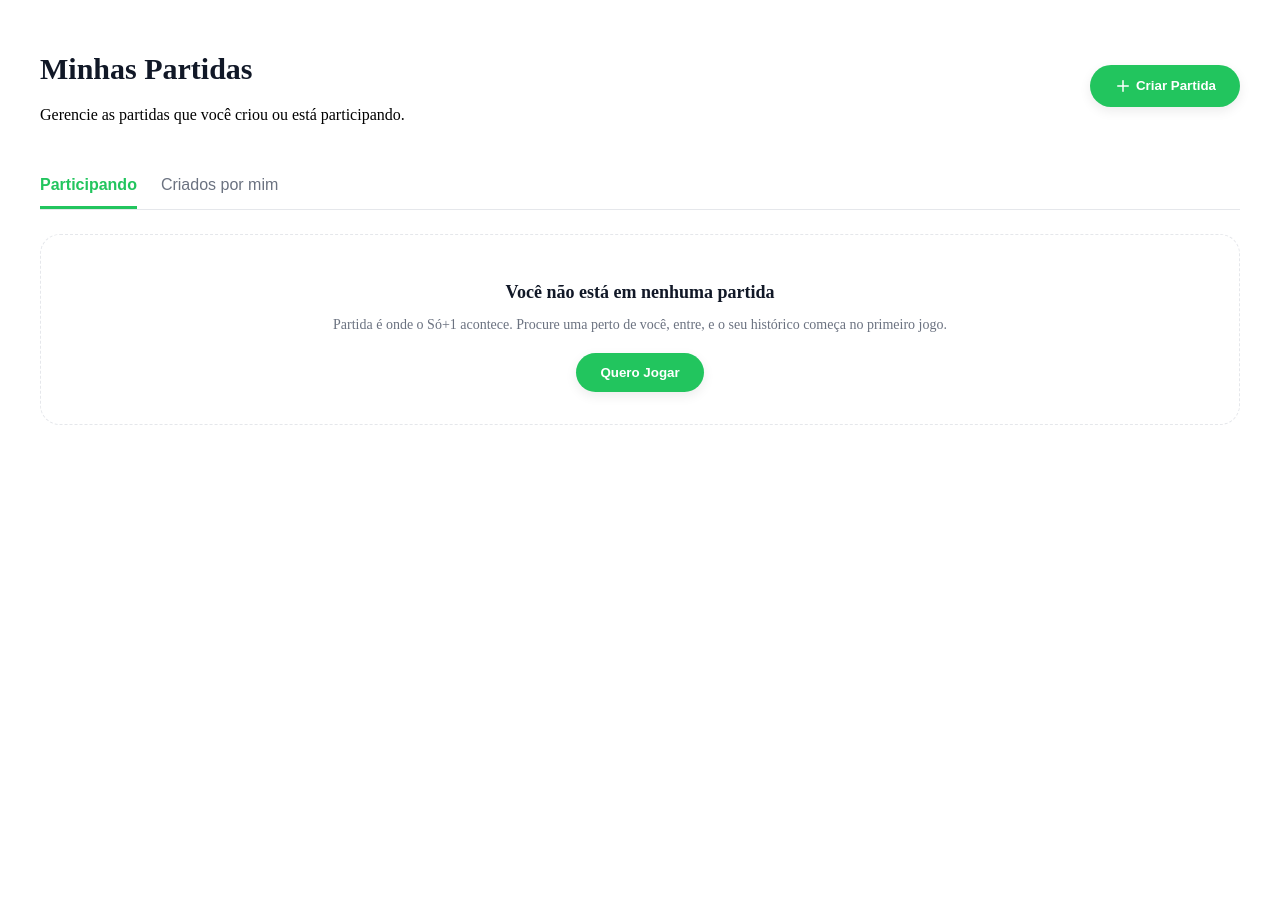
it: MinhasPartidas — sorteio de times › abre com 2 times, que é o mínimo que faz sentido
The image size is (1280, 900).
Click the button "Criados por mim" at (220, 187), box top-left (161, 164), bottom-right (278, 209)
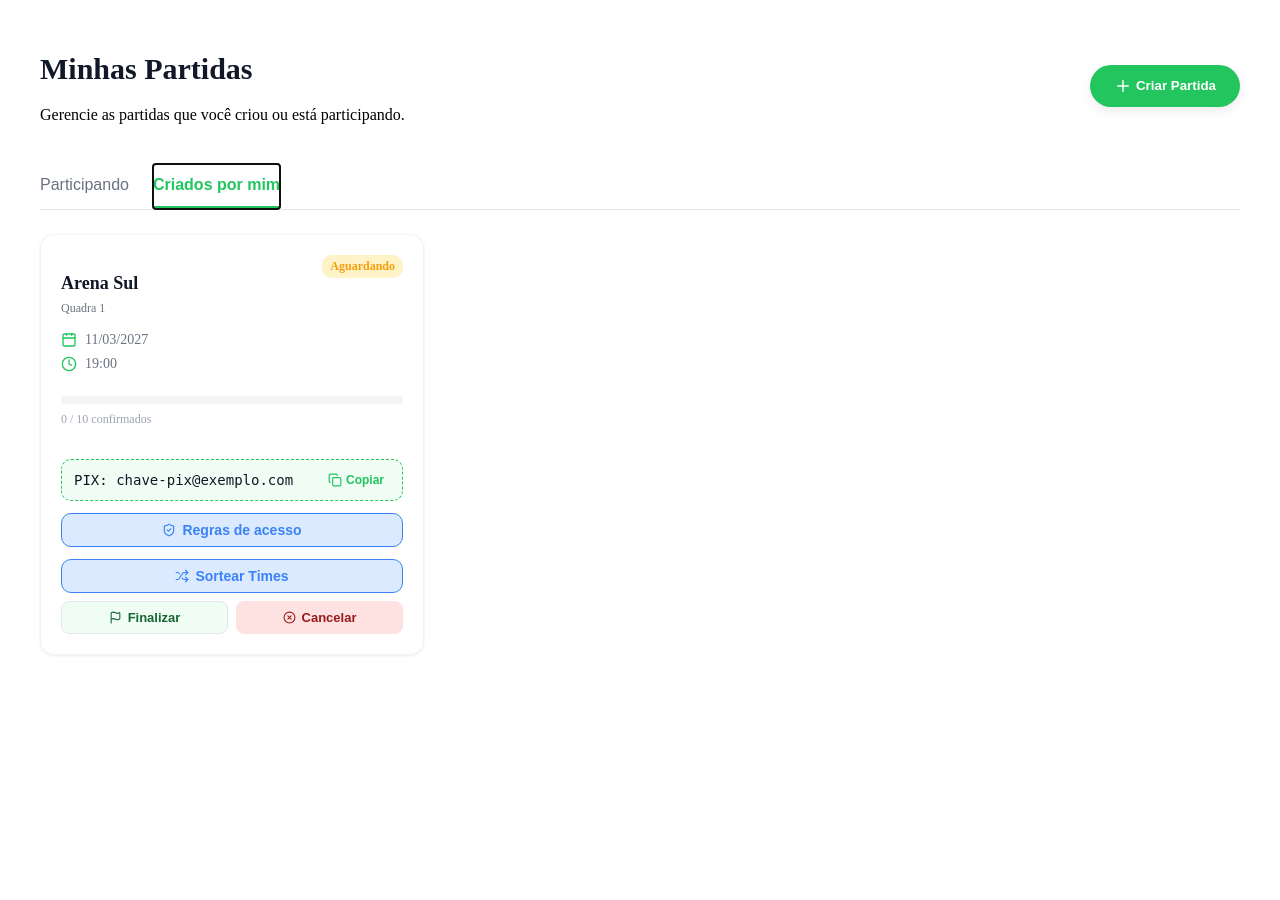
Click the button "Sortear Times" at (232, 576), box top-left (61, 559), bottom-right (403, 593)
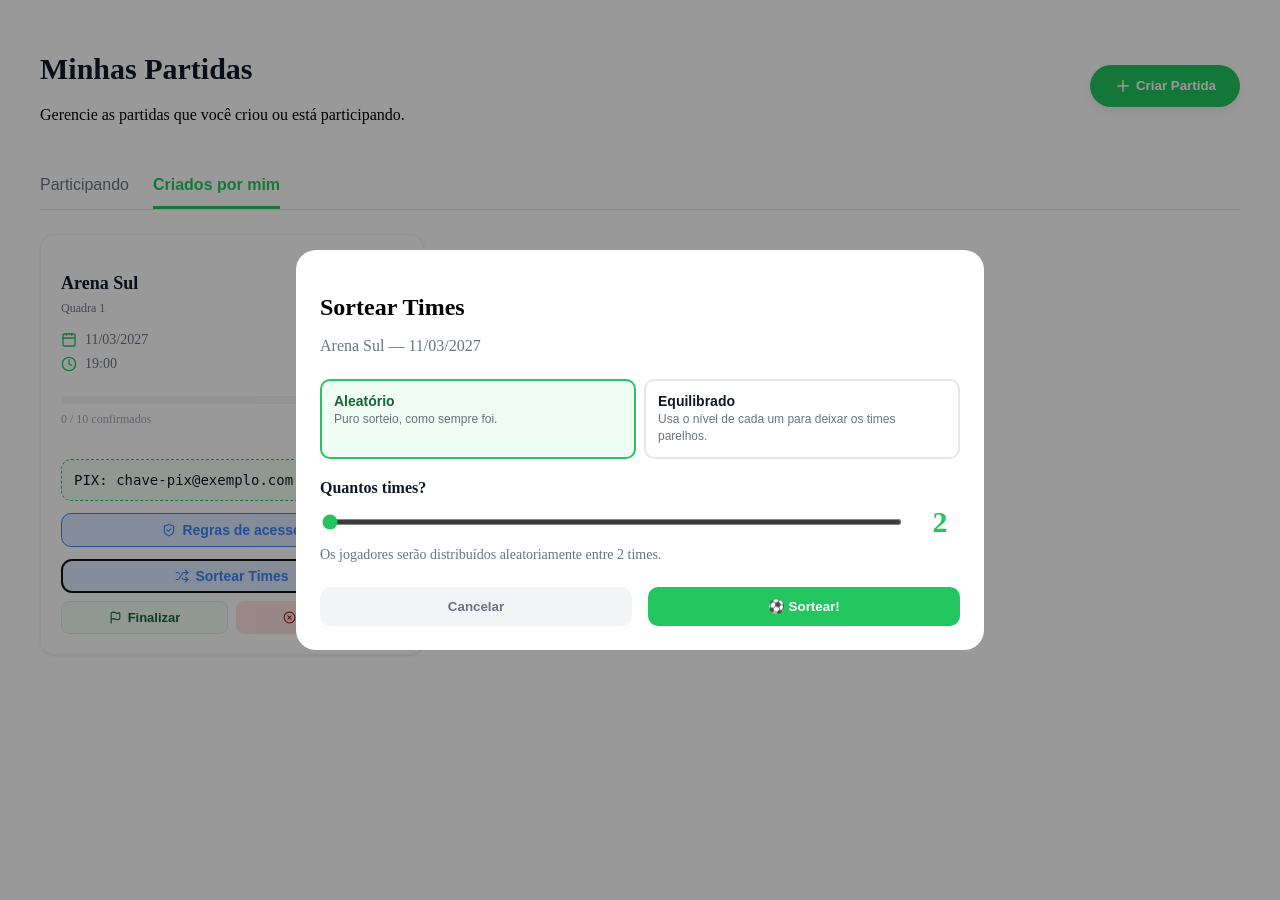
Check: the heading "Sortear Times" is shown, box top-left (320, 294), bottom-right (465, 320)
Check: the slider holds "2", box top-left (322, 519), bottom-right (902, 525)
